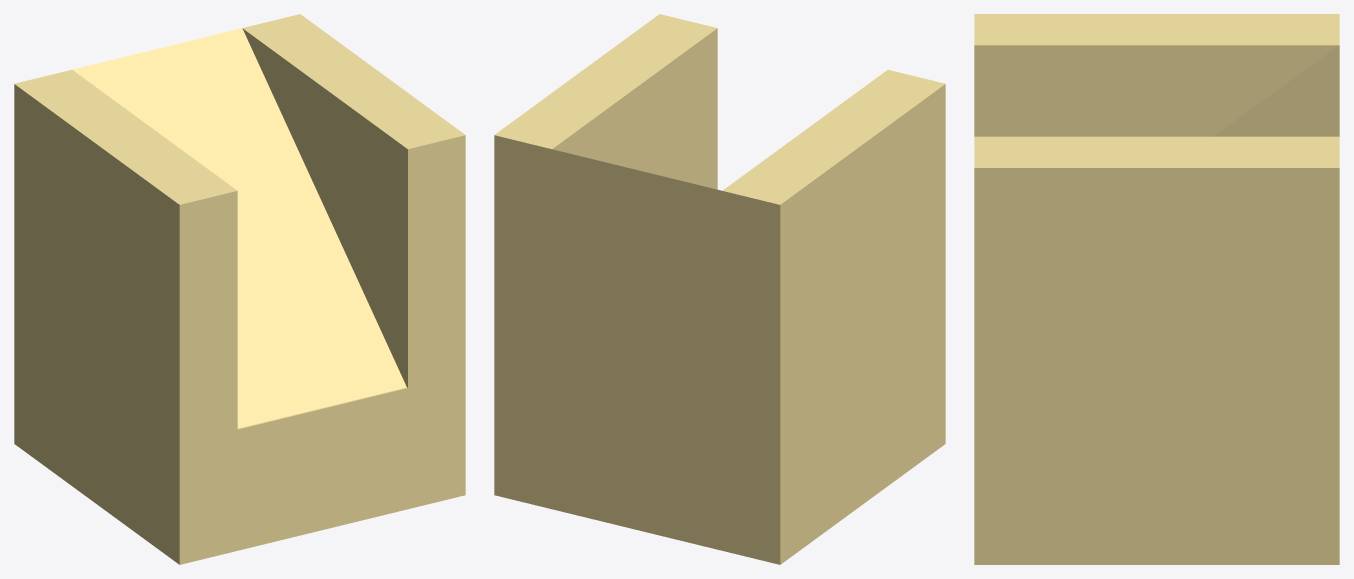
File: input.gltf
3 views of the same model, side by side, from view 1: azimuth 30°, elevation 25°; view 2: azimuth 150°, elevation 25°; view 3: azimuth 270°, elevation 25° (orthographic). The views are drawn at different scales.
Visible parts, largest first — view 1: Renderer Node; view 2: Renderer Node; view 3: Renderer Node.
Boxes of the visible parts, x1,y1,x2,y2 form: Renderer Node: [14, 14, 465, 564]; Renderer Node: [494, 14, 945, 564]; Renderer Node: [974, 14, 1339, 564].
Bounding box in the file's own units: 0.6237 × 0.75 × 0.625.
